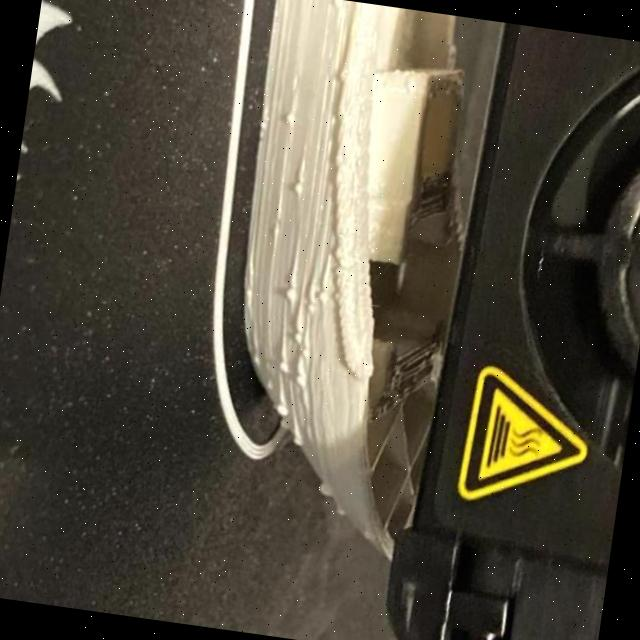blobs: (311, 284, 338, 316), (274, 282, 303, 311), (268, 357, 294, 385), (269, 399, 294, 421), (288, 331, 310, 354), (280, 113, 302, 136), (314, 482, 340, 501), (288, 178, 308, 201), (292, 374, 311, 393), (288, 433, 307, 452)
